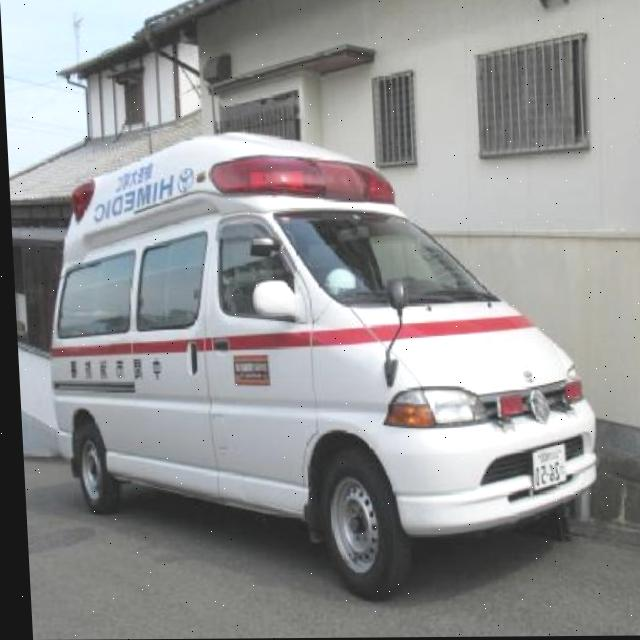emergency: (35, 130, 601, 604)
